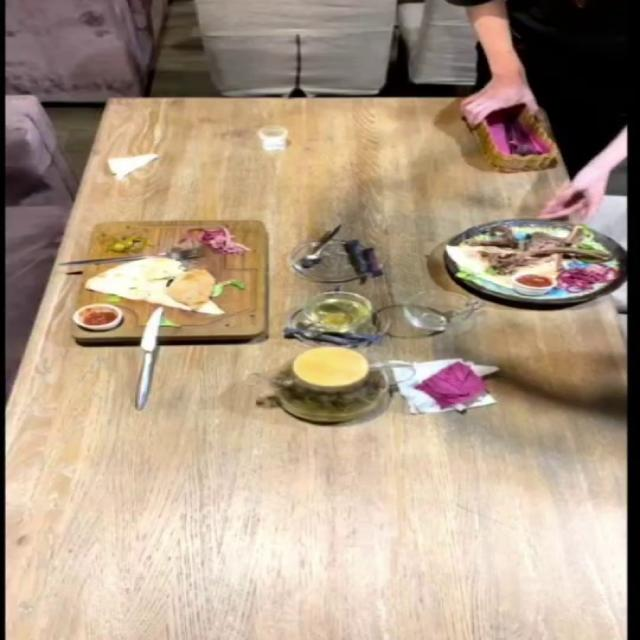meat: (462, 203, 634, 338)
tea: (262, 350, 387, 420)
